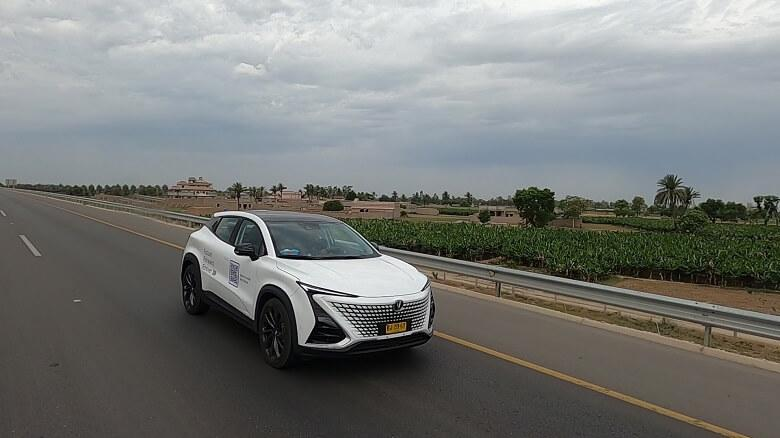windshield: (260, 219, 389, 264)
